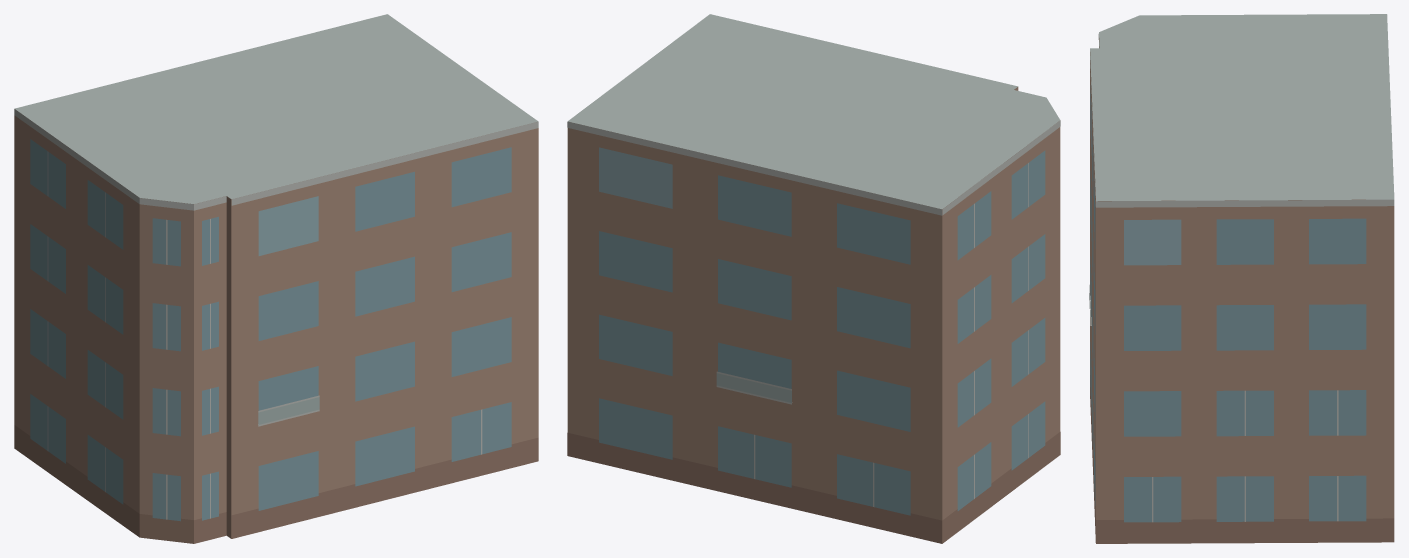
File: survey-upis-32805365.glb
The picture shows the model from 3 angles, left to right: view 1: azimuth 30°, elevation 25°; view 2: azimuth 150°, elevation 25°; view 3: azimuth 270°, elevation 25°; orthographic projection. The views are drawn at different scales.
Parts seen in each view (by area): view 1: survey-upis-32805365.tmp; view 2: survey-upis-32805365.tmp; view 3: survey-upis-32805365.tmp.
Boxes of the visible parts, left/top/right/bottom form: survey-upis-32805365.tmp: left=14, top=14, right=538, bottom=543; survey-upis-32805365.tmp: left=567, top=14, right=1060, bottom=543; survey-upis-32805365.tmp: left=1089, top=14, right=1394, bottom=543.
Bounding box in the file's own units: 14.95 × 12.76 × 10.3.
